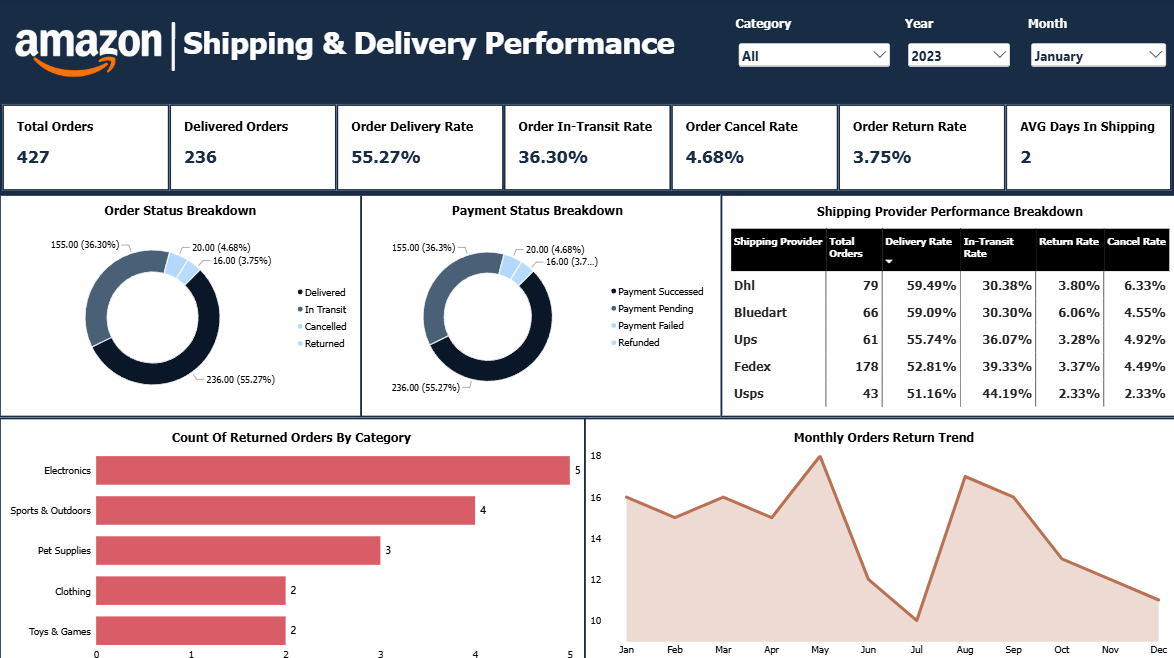

What the dashboard file says about the page in this screenshot:
{"tool":"powerbi","page":{"name":"Shipping & Delivery Performance","canvas":[1920,1080],"ordinal":2},"visuals":[{"type":"group","id":"g1","title":"Group 3","box":[580.7,317.2,600.2,363.5],"z":0},{"type":"group","id":"g2","title":"Group 3","box":[1173.6,317.2,746.6,363.5],"z":1000},{"type":"shape","box":[0,148.8,1920.1,168.3],"z":2000},{"type":"shape","box":[0,0,1920.1,170.8],"z":3000},{"type":"slicer","title":"Month","fields":{"Values":["public dim_date.month_name"]},"box":[1673.7,26.8,229.3,131.8],"z":3000,"group":"g4"},{"type":"slicer","title":"Year","fields":{"Values":["public dim_date.year"]},"box":[1473.6,26.8,175.7,136.6],"z":4000,"group":"g4"},{"type":"cardVisual","fields":{"Data":["public fact_sales.total_orders","public fact_sales.delivered_orders","public fact_sales.order_delivery_rate","public fact_sales.order_transit_rate","public fact_sales.order_cancel_rate","public fact_sales.order_return_rate","public fact_sales.avg_days_in_shipping"]},"box":[0,165.9,1920.1,151.3],"z":4000},{"type":"slicer","title":"Category","fields":{"Values":["public dim_products.category_name"]},"box":[1197.9,26.8,256.2,131.8],"z":5000},{"type":"image","box":[0,31.7,287.9,104.9],"z":6000},{"type":"textbox","box":[299.4,42.3,871,109.8],"z":6000,"group":"g4"},{"type":"shape","box":[580.7,317.2,600.2,363.5],"z":6000,"group":"g1"},{"type":"shape","box":[1173.6,317.2,746.6,363.5],"z":6000,"group":"g2"},{"type":"shape","box":[0,680.7,960.1,400.1],"z":6000,"group":"g3"},{"type":"textbox","box":[251.3,14.6,68.3,139.1],"z":7000,"group":"g4"},{"type":"shape","box":[0,317.2,590.4,363.5],"z":7000},{"type":"shape","box":[950.3,680.7,967.4,400.1],"z":7001,"group":"g3"},{"type":"shape","box":[24.4,717.3,590.4,363.5],"z":8000},{"type":"group","id":"g3","title":"Group 3","box":[0,680.7,1917.7,400.1],"z":9000},{"type":"barChart","title":"Count Of Returned Orders By Category","fields":{"Category":["public dim_products.category_name"],"Y":["public fact_sales.returend_orders"]},"box":[0,700.2,951.5,380.6],"z":10000},{"type":"group","id":"g4","title":"Group 1","box":[251.3,14.6,1651.8,148.8],"z":11000},{"type":"tableEx","title":"Shipping Provider Performance Breakdown","fields":{"Values":["public fact_sales.shipping_provider","public fact_sales.total_orders","public fact_sales.order_delivery_rate","public fact_sales.order_transit_rate","public fact_sales.order_return_rate","public fact_sales.order_cancel_rate"]},"box":[1173.6,319.6,746.6,363.5],"z":12000},{"type":"donutChart","title":"Payment Status Breakdown","fields":{"Category":["public fact_sales.payment_status"],"Y":["public fact_sales.total_orders"]},"box":[580.7,317.2,590.4,361.1],"z":13000},{"type":"donutChart","title":"Order Status Breakdown","fields":{"Category":["public fact_sales.delivery_status"],"Y":["public fact_sales.total_orders"]},"box":[0,317.2,590.4,363.5],"z":14000},{"type":"lineChart","title":"Monthly Orders Return Trend ","fields":{"Category":["public dim_date.year Hierarchy.month_name_short"],"Y":["public fact_sales.returend_orders"]},"box":[961.3,700.2,956.4,373.3],"z":15000}]}

Visuals, with their boxes in screenshot pixels (x1, y1, x2, y2), scaled from the page's 1920x1080 canvas onto the 1174x658 screenshot:
"Group 3" group: crop(355, 193, 722, 415)
"Group 3" group: crop(718, 193, 1173, 415)
shape: crop(0, 91, 1173, 193)
shape: crop(0, 0, 1173, 104)
"Month" slicer: crop(1023, 16, 1164, 97)
"Year" slicer: crop(901, 16, 1008, 100)
cardVisual - public fact_sales.total_orders x public fact_sales.delivered_orders: crop(0, 101, 1173, 193)
"Category" slicer: crop(732, 16, 889, 97)
image: crop(0, 19, 176, 83)
textbox: crop(183, 26, 716, 93)
shape: crop(355, 193, 722, 415)
shape: crop(718, 193, 1173, 415)
shape: crop(0, 415, 587, 657)
textbox: crop(154, 9, 195, 94)
shape: crop(0, 193, 361, 415)
shape: crop(581, 415, 1173, 657)
shape: crop(15, 437, 376, 657)
"Group 3" group: crop(0, 415, 1173, 657)
"Count Of Returned Orders By Category" barChart: crop(0, 427, 582, 657)
"Group 1" group: crop(154, 9, 1164, 100)
"Shipping Provider Performance Breakdown" tableEx: crop(718, 195, 1173, 416)
"Payment Status Breakdown" donutChart: crop(355, 193, 716, 413)
"Order Status Breakdown" donutChart: crop(0, 193, 361, 415)
"Monthly Orders Return Trend " lineChart: crop(588, 427, 1173, 654)
